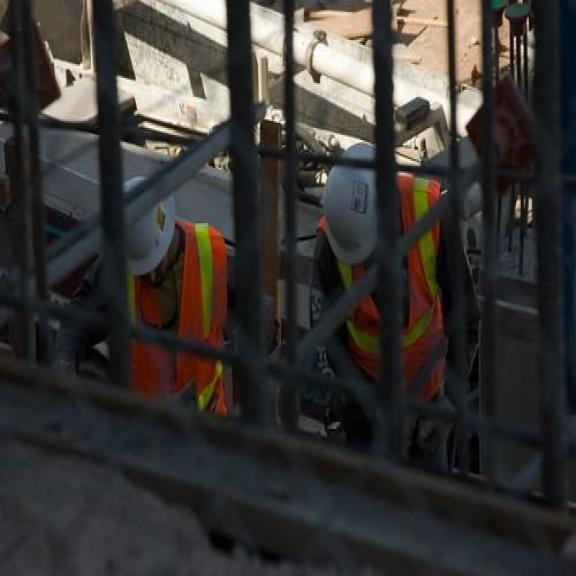safety_vest: (316, 168, 447, 392), (125, 218, 228, 417)
